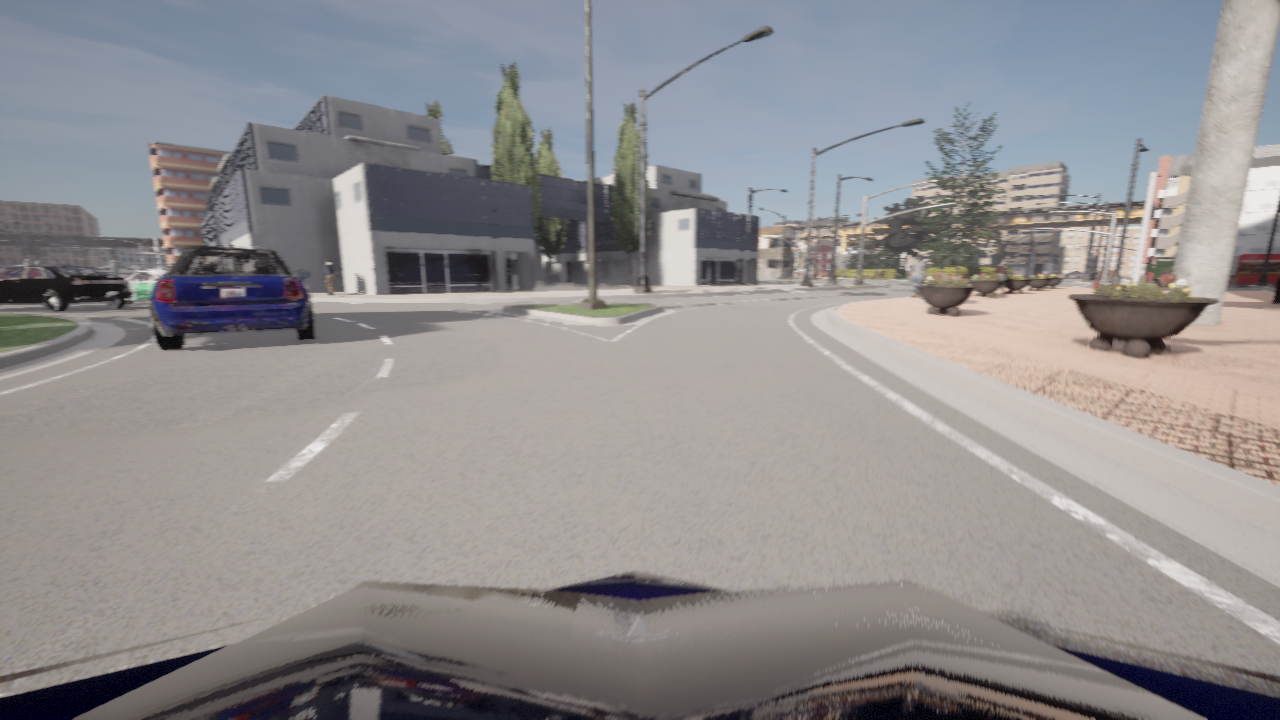cyclist: (0, 569, 1279, 719), (150, 245, 315, 350), (0, 265, 134, 311), (127, 270, 167, 304), (0, 267, 17, 275), (1065, 271, 1084, 277), (1090, 271, 1099, 277), (1090, 272, 1093, 275), (1109, 271, 1110, 273)
pedestrian: (993, 258, 1011, 294), (910, 256, 925, 296), (323, 258, 336, 294)
